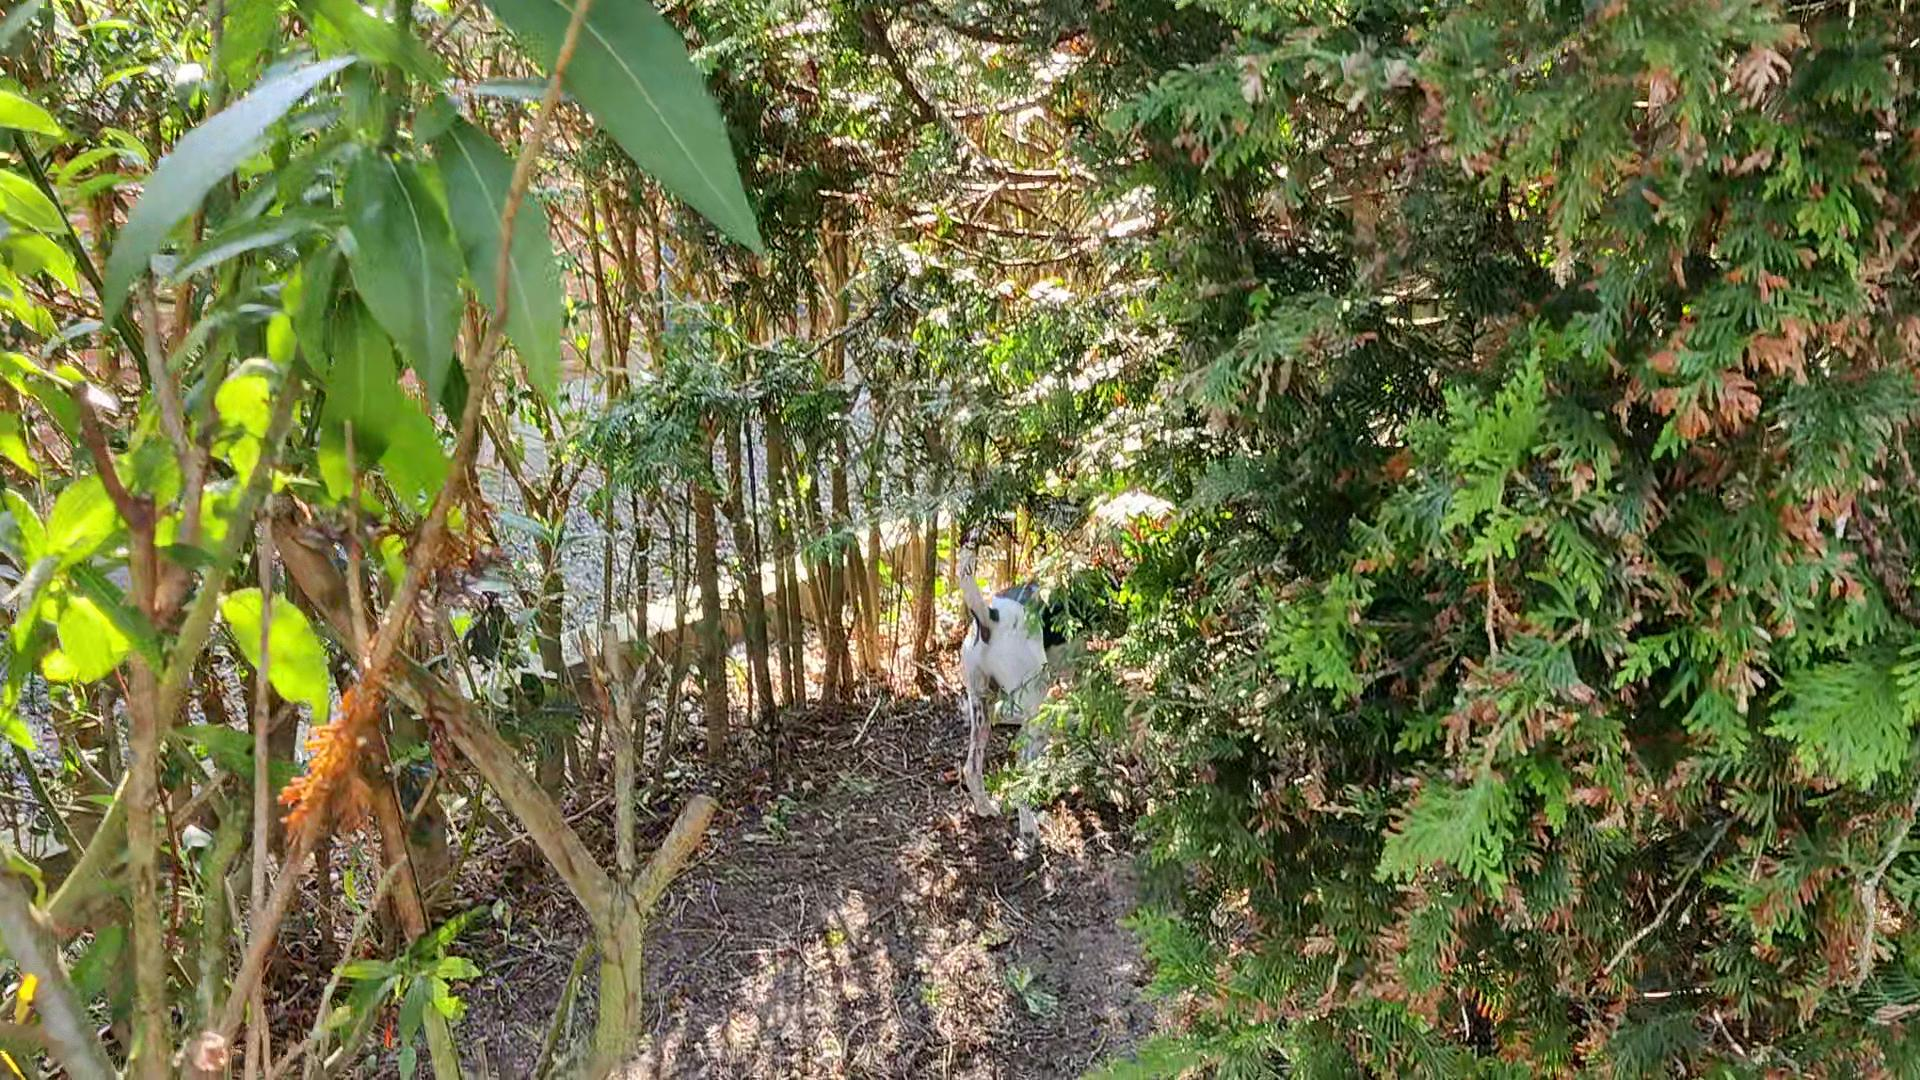Dog: (940, 505, 1097, 858)
